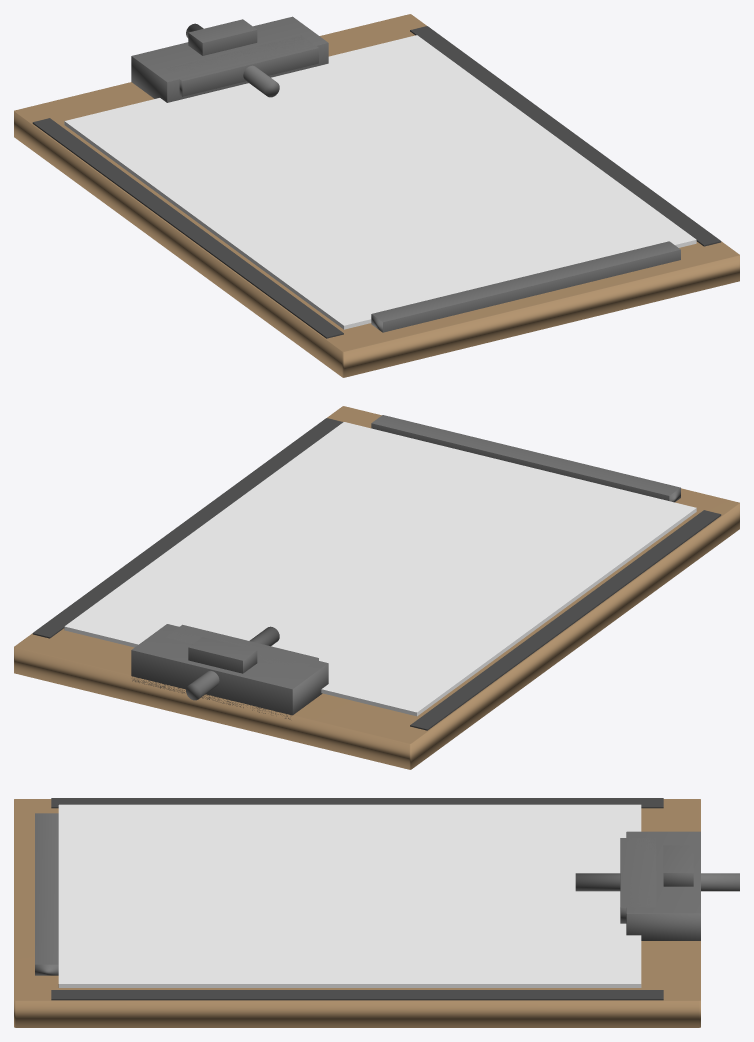
The model's file is ClipboardObject.fbx.
3 views of the same model, one above another, from view 1: azimuth 30°, elevation 25°; view 2: azimuth 150°, elevation 25°; view 3: azimuth 270°, elevation 25° (orthographic). The views are drawn at different scales.
Visible parts, largest first — view 1: Clipboard_Paper, Clipboard_Board, Clipboard_Bottom_Lip, Clipboard_Clip_Base, Clipboard_Grip_Left, Clipboard_Grip_Right, Clipboard_Clip_Front, Clipboard_Clip_Tab, Clipboard_Clip_Hinge; view 2: Clipboard_Paper, Clipboard_Board, Clipboard_Clip_Base, Clipboard_Grip_Left, Clipboard_Bottom_Lip, Clipboard_Grip_Right, Clipboard_Clip_Tab, Clipboard_Clip_Front, Clipboard_Clip_Hinge; view 3: Clipboard_Paper, Clipboard_Board, Clipboard_Grip_Right, Clipboard_Clip_Base, Clipboard_Grip_Left, Clipboard_Bottom_Lip, Clipboard_Clip_Front, Clipboard_Clip_Hinge, Clipboard_Clip_Tab.
Part boxes in pixels (box(x1,y1,x2,y2)): Clipboard_Paper: box(64, 35, 696, 329); Clipboard_Board: box(14, 14, 739, 377); Clipboard_Bottom_Lip: box(371, 241, 680, 332); Clipboard_Clip_Base: box(131, 16, 328, 102); Clipboard_Grip_Left: box(32, 118, 343, 338); Clipboard_Grip_Right: box(410, 26, 721, 246); Clipboard_Clip_Front: box(166, 35, 318, 96); Clipboard_Clip_Tab: box(188, 19, 257, 55); Clipboard_Clip_Hinge: box(186, 23, 279, 97); Clipboard_Paper: box(64, 422, 696, 716); Clipboard_Board: box(14, 406, 739, 769); Clipboard_Clip_Base: box(131, 624, 328, 719); Clipboard_Grip_Left: box(410, 510, 721, 730); Clipboard_Bottom_Lip: box(371, 415, 680, 502); Clipboard_Grip_Right: box(32, 418, 343, 638); Clipboard_Clip_Tab: box(188, 637, 257, 673); Clipboard_Clip_Front: box(166, 624, 318, 670); Clipboard_Clip_Hinge: box(186, 626, 279, 700); Clipboard_Paper: box(58, 804, 641, 987); Clipboard_Board: box(14, 799, 700, 1027); Clipboard_Grip_Right: box(51, 990, 663, 1000); Clipboard_Clip_Base: box(626, 831, 700, 940); Clipboard_Grip_Left: box(51, 798, 663, 808); Clipboard_Bottom_Lip: box(35, 813, 58, 975); Clipboard_Clip_Front: box(620, 838, 656, 923); Clipboard_Clip_Hinge: box(575, 873, 739, 891); Clipboard_Clip_Tab: box(663, 845, 693, 886).
Bounding box in the file's own units: 32 × 5 × 48.6.
